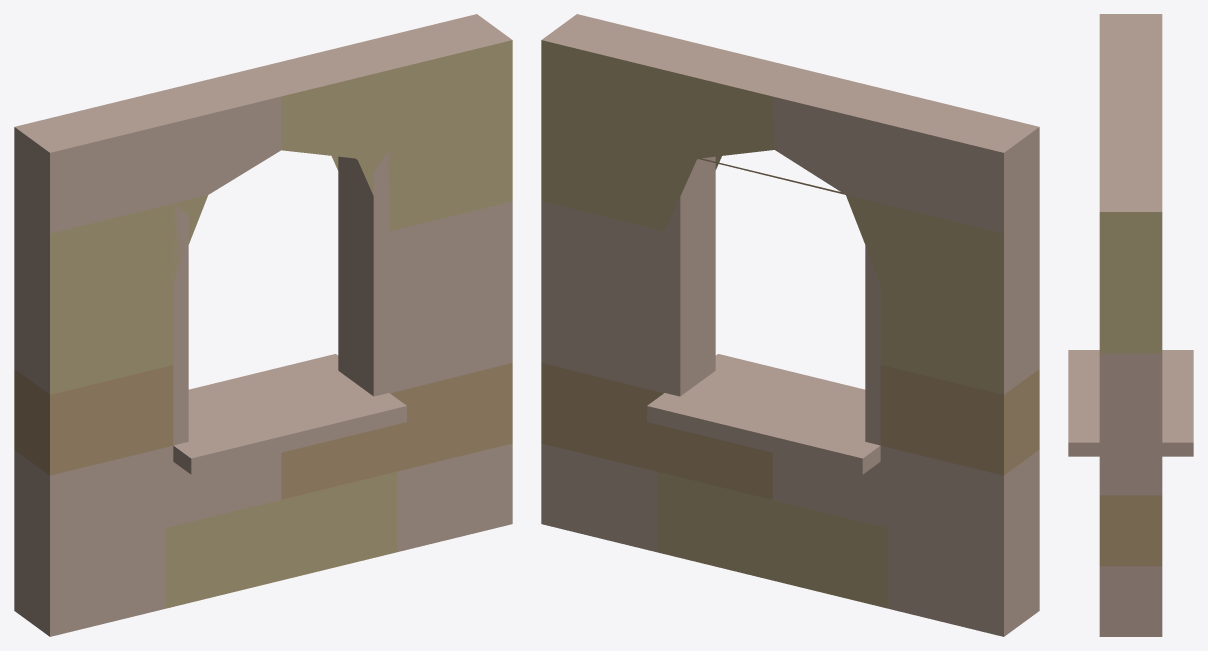
The model's file is bogenfenster.FBX.
The picture shows the model from 3 angles, left to right: view 1: azimuth 30°, elevation 25°; view 2: azimuth 150°, elevation 25°; view 3: azimuth 270°, elevation 25°; orthographic projection. The views are drawn at different scales.
Parts seen in each view (by area): view 1: Cube.040; view 2: Cube.040; view 3: Cube.040.
Part boxes in pixels (<box>): Cube.040: <box>14,14,512,636</box>; Cube.040: <box>541,14,1039,636</box>; Cube.040: <box>1068,14,1193,636</box>.
Size of the model in its own units: 300 by 300 by 80.
